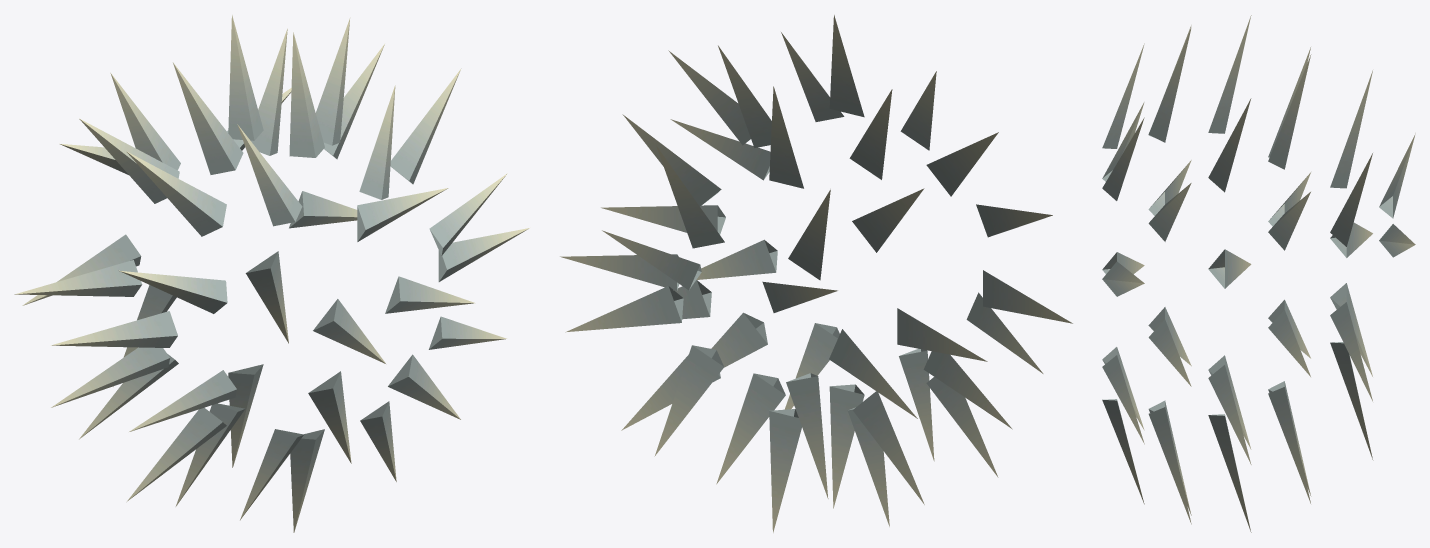
The model's file is Spines.fbx.
3 views of the same model, side by side, from view 1: azimuth 30°, elevation 25°; view 2: azimuth 150°, elevation 25°; view 3: azimuth 270°, elevation 25° (orthographic). The views are drawn at different scales.
Parts seen in each view (by area): view 1: Spines; view 2: Spines; view 3: Spines.
Part boxes in pixels (bbox=[...]): Spines: bbox=[14, 15, 529, 532]; Spines: bbox=[560, 15, 1072, 532]; Spines: bbox=[1102, 15, 1415, 532].
Bounding box in the file's own units: 32.52 × 32.52 × 18.86.
1 material, 1 textured.
